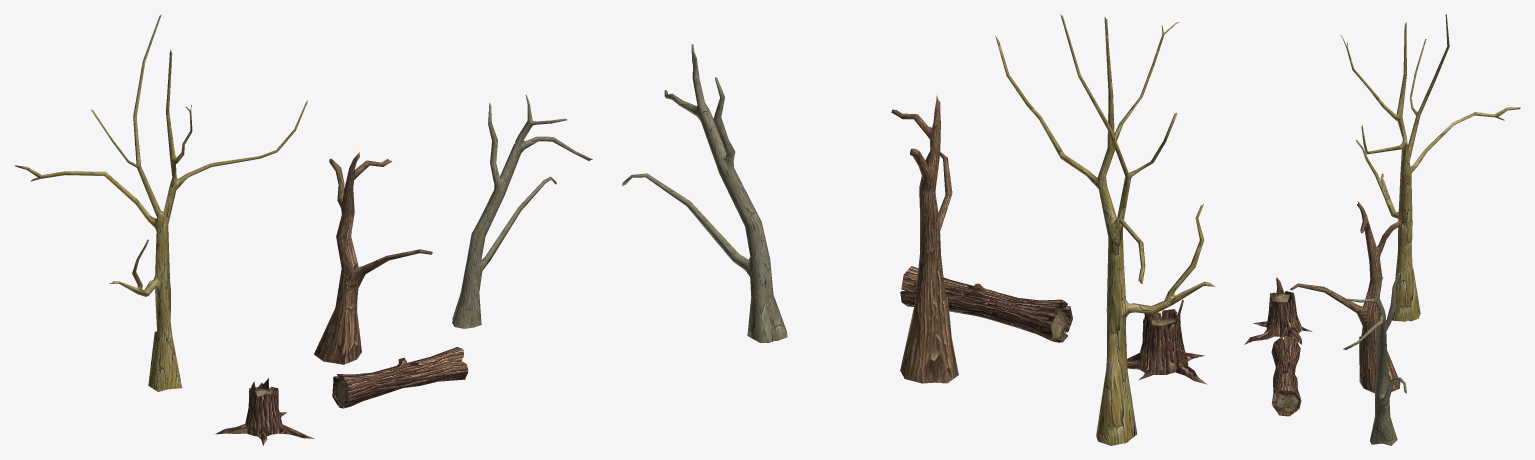
3 views of the same model, side by side, from view 1: azimuth 30°, elevation 25°; view 2: azimuth 150°, elevation 25°; view 3: azimuth 270°, elevation 25° (orthographic). The views are drawn at different scales.
Parts seen in each view (by area): view 1: tree_01_07 - Default_0; view 2: tree_01_07 - Default_0; view 3: tree_01_07 - Default_0.
Boxes of the visible parts, x1,y1,x2,y2 form: tree_01_07 - Default_0: (14,14,592,445); tree_01_07 - Default_0: (622,14,1215,445); tree_01_07 - Default_0: (1244,14,1520,445).
Size of the model in its own units: 87.66 by 61.49 by 49.24.
